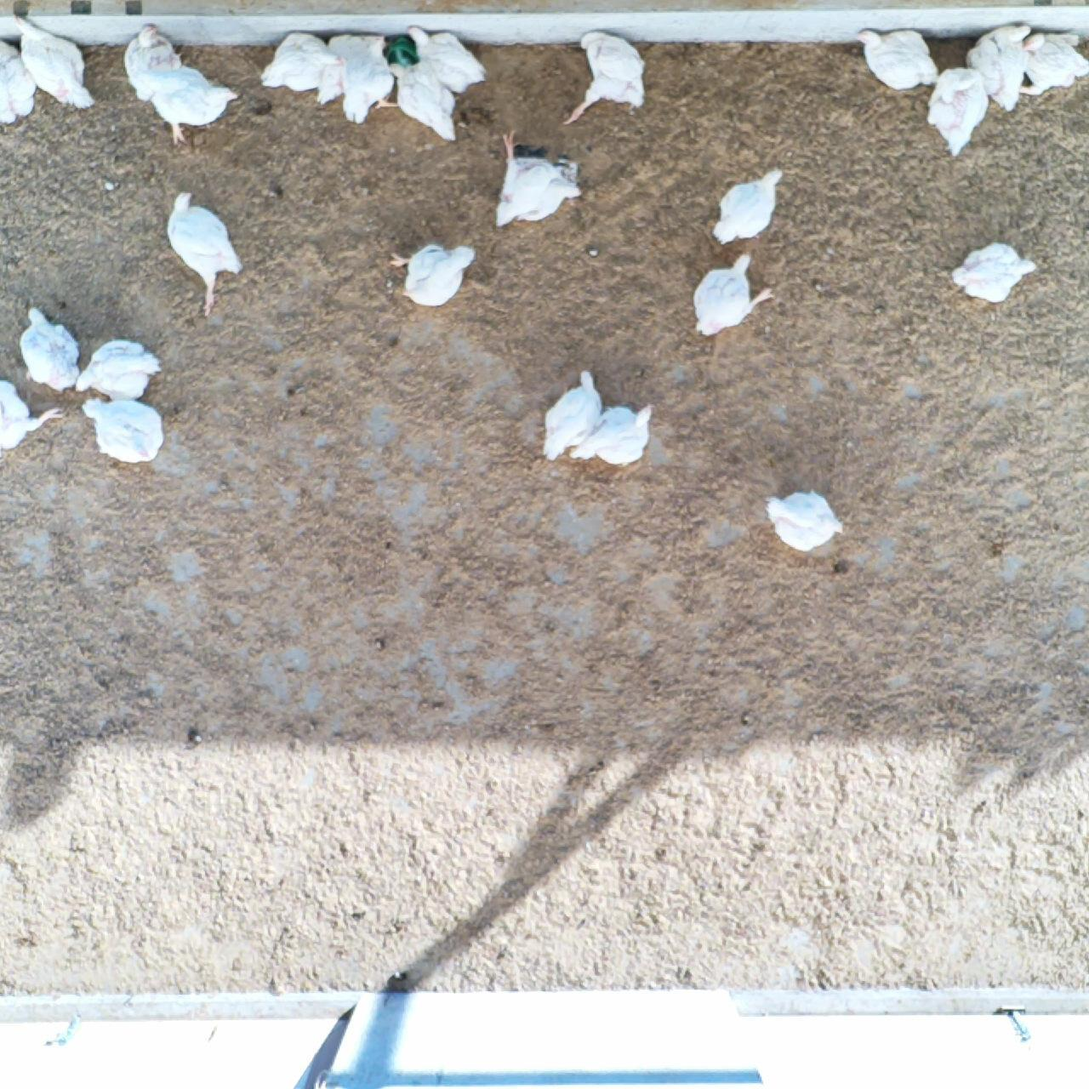chicken: (168, 192, 245, 319), (494, 130, 582, 225), (562, 31, 644, 126), (12, 15, 95, 107), (147, 66, 239, 145), (694, 251, 773, 336), (261, 31, 345, 100), (391, 244, 476, 310), (966, 25, 1031, 111), (388, 61, 456, 141), (929, 68, 989, 157), (715, 168, 784, 245), (80, 399, 164, 462), (77, 340, 162, 402), (343, 31, 402, 120), (951, 243, 1037, 304), (406, 24, 486, 89), (544, 370, 602, 459), (764, 490, 845, 553), (855, 29, 940, 89), (20, 307, 80, 391), (570, 405, 653, 465), (1, 380, 66, 450), (125, 24, 182, 100), (318, 35, 377, 108), (1023, 31, 1089, 94), (1, 41, 35, 123)
